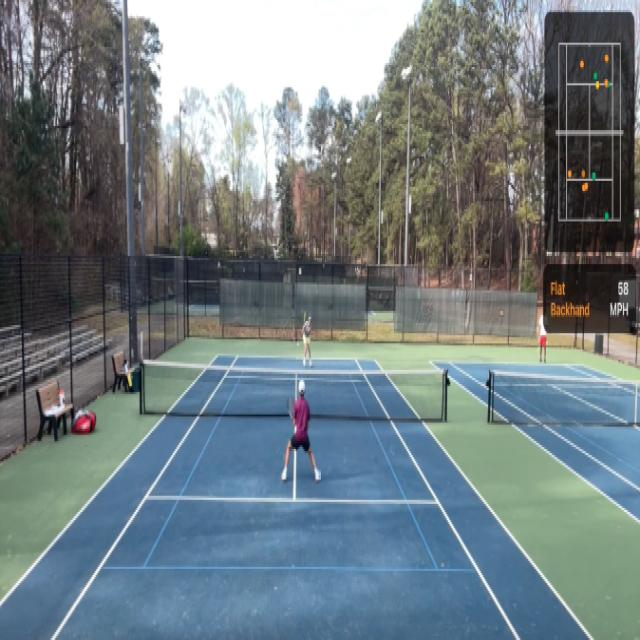ball: (297, 340, 299, 347)
